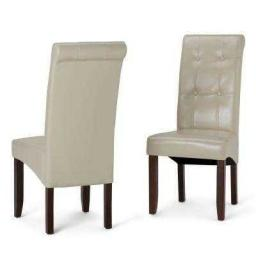Chair: (13, 43, 126, 235), (148, 36, 245, 220)
